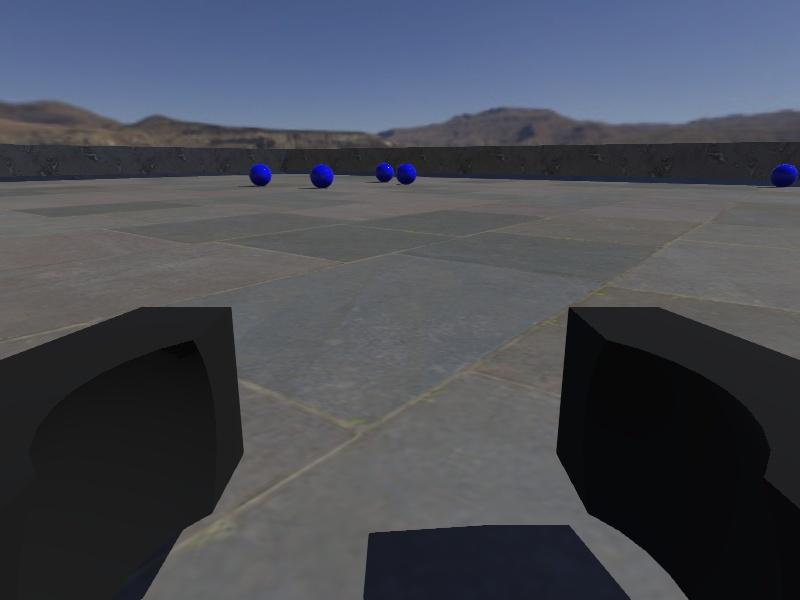blue ball: (770, 162, 798, 188), (309, 163, 335, 188), (395, 162, 418, 185), (248, 164, 272, 186), (375, 163, 395, 182)
